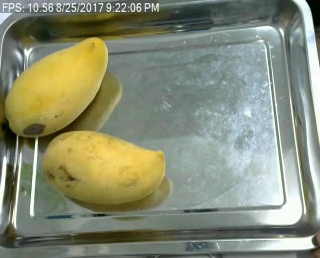Mango: (2, 37, 106, 137), (41, 128, 168, 207)
